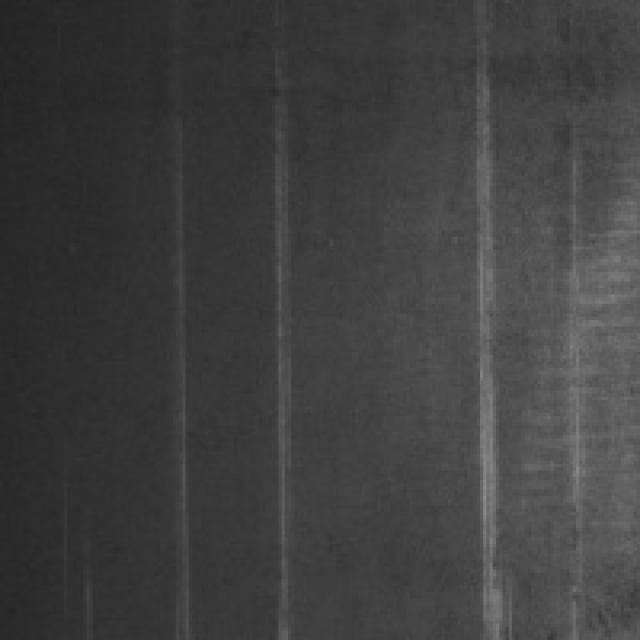scratches: (477, 35, 515, 634), (272, 52, 310, 630), (172, 109, 202, 630)
